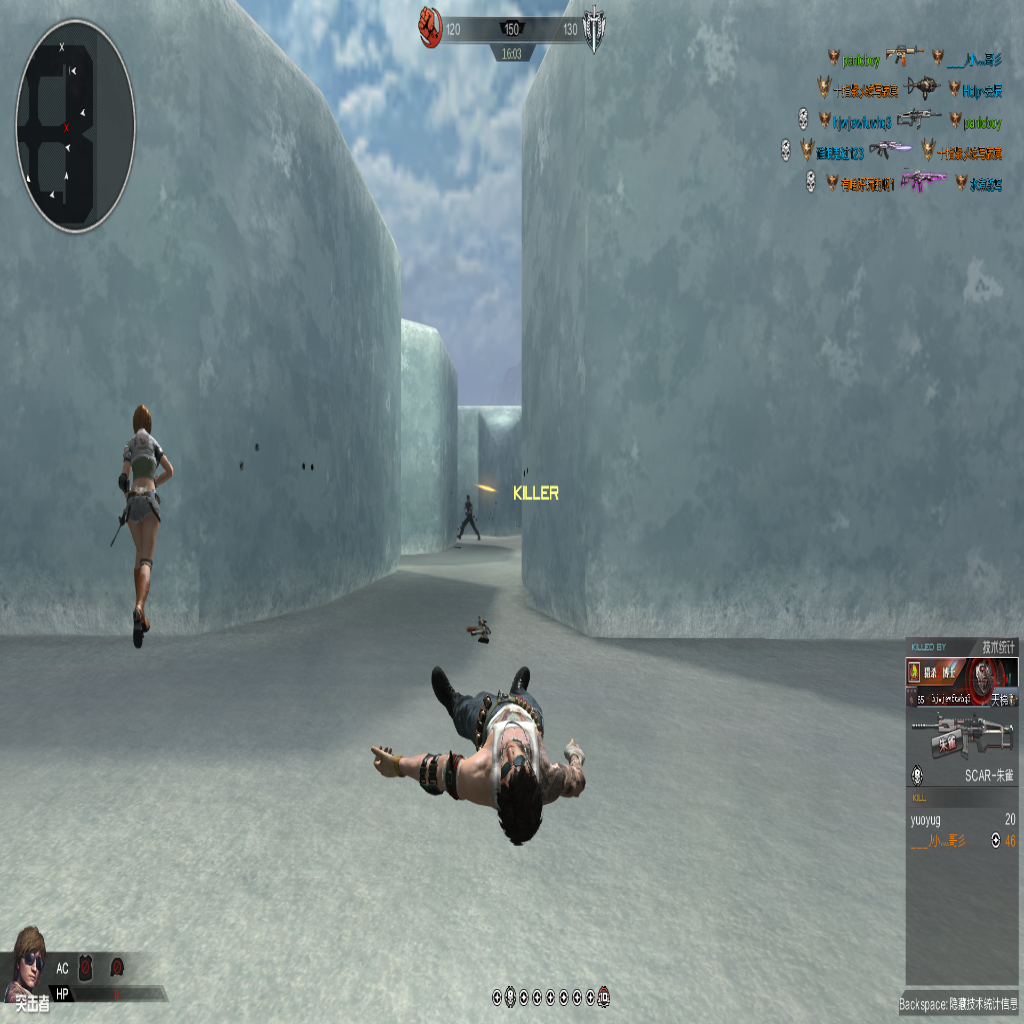ct: (457, 494, 481, 539)
tt: (114, 396, 170, 646)
